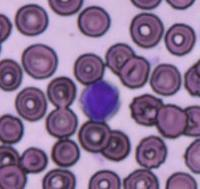L: (81, 78, 121, 124)
